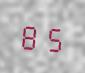eight: (19, 18, 41, 52)
five: (42, 20, 64, 54)
